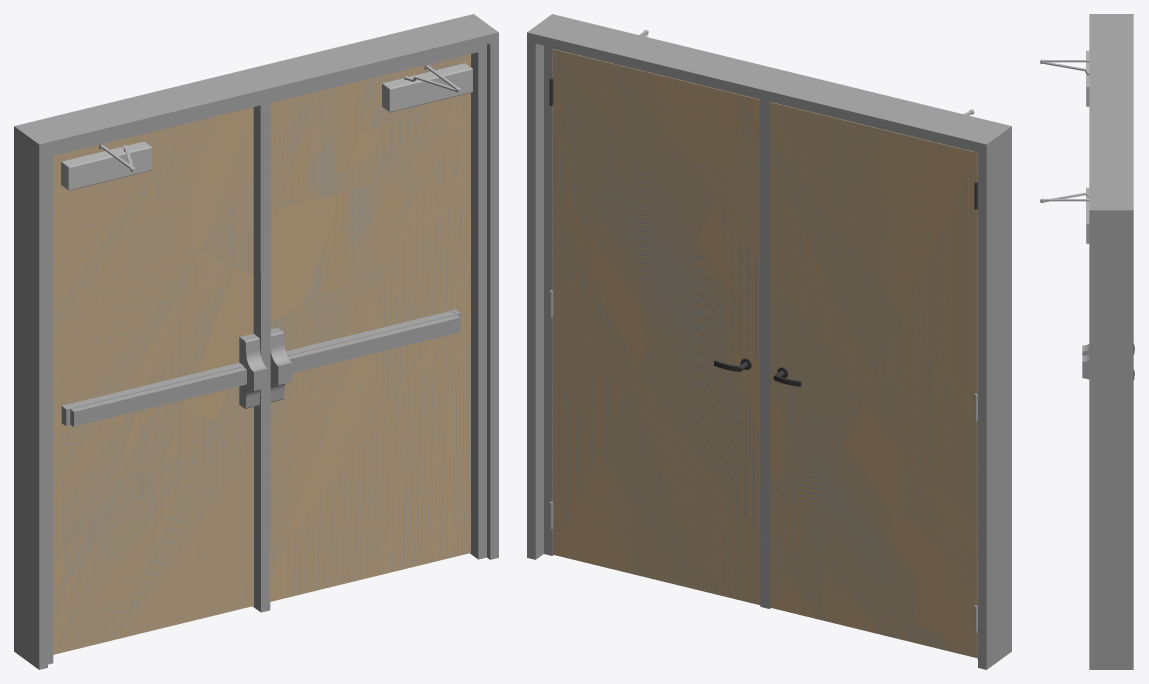
Rendered from solid_door_import.dae.
The picture shows the model from 3 angles, left to right: view 1: azimuth 30°, elevation 25°; view 2: azimuth 150°, elevation 25°; view 3: azimuth 270°, elevation 25°; orthographic projection. The views are drawn at different scales.
Parts seen in each view (by area): view 1: skpdiGntQ (×11); view 2: skpdiGntQ (×3); view 3: skpdiGntQ (×4).
Part boxes in pixels (bbox=[...]): skpdiGntQ (×11): bbox=[14, 14, 498, 669]; skpdiGntQ (×3): bbox=[527, 14, 1011, 669]; skpdiGntQ (×4): bbox=[1082, 14, 1133, 669].
Size of the model in its own units: 79.72 by 16.16 by 87.06.
